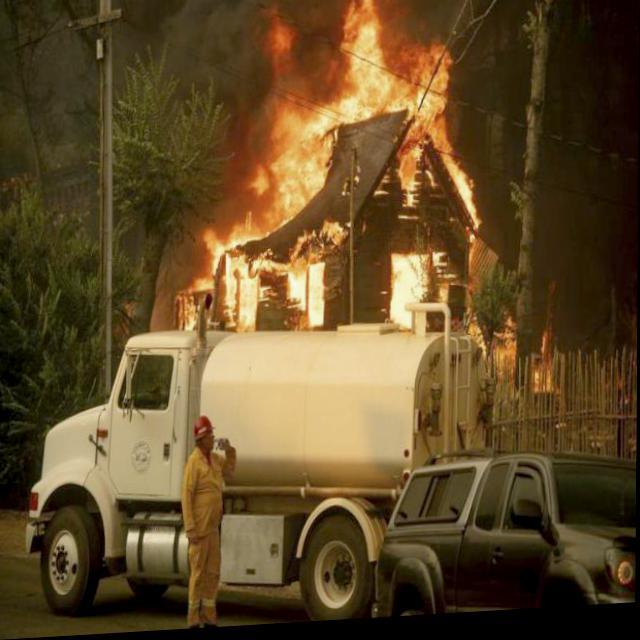Fire: (172, 0, 560, 420)
